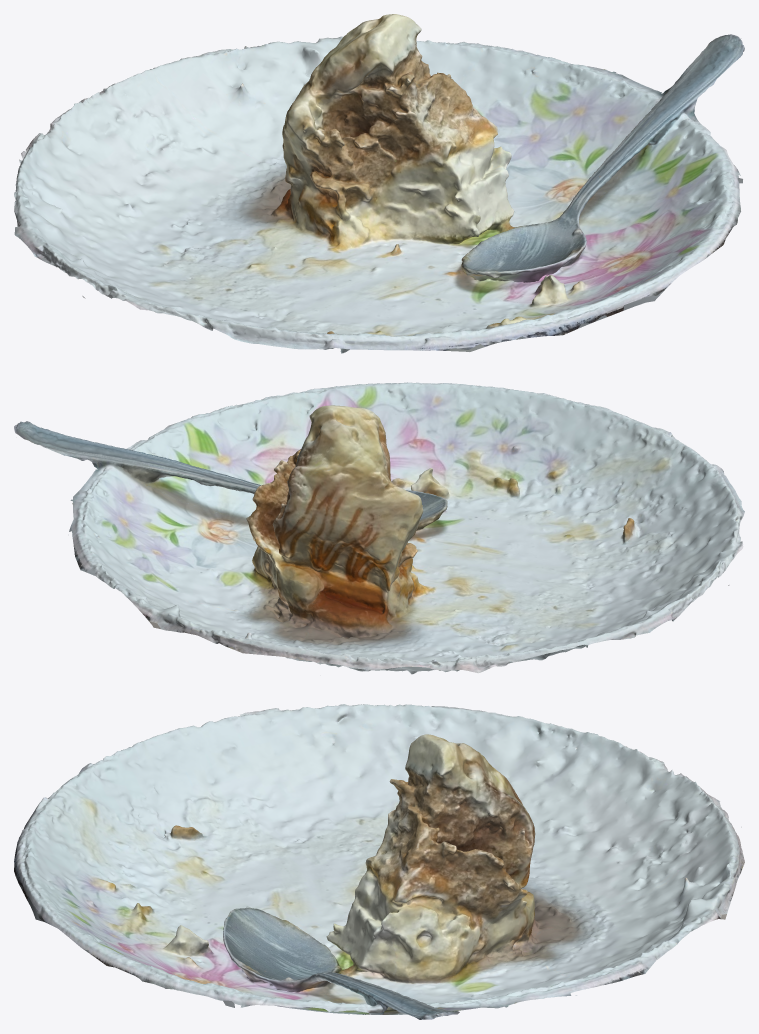
File: leftover_cake_43cm.glb
3 renders of one model, top to bottom at view 1: azimuth 30°, elevation 25°; view 2: azimuth 150°, elevation 25°; view 3: azimuth 270°, elevation 25°, orthographic. The views are drawn at different scales.
Parts seen in each view (by area): view 1: Mesh_0_Part_0; view 2: Mesh_0_Part_0; view 3: Mesh_0_Part_0.
Part boxes in pixels (<box>): Mesh_0_Part_0: <box>14,14,744,353</box>; Mesh_0_Part_0: <box>14,382,744,674</box>; Mesh_0_Part_0: <box>14,704,744,1019</box>.
Bounding box in the file's own units: 0.4311 × 0.1293 × 0.3827.
1 material, 1 textured.
